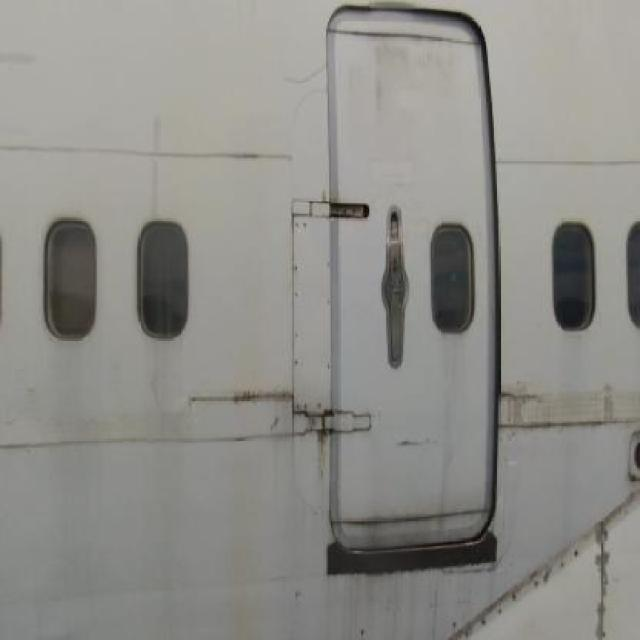Missing-Rivet: (443, 534, 583, 640), (288, 195, 341, 431), (587, 500, 621, 640)
Scartch: (181, 388, 364, 482)
